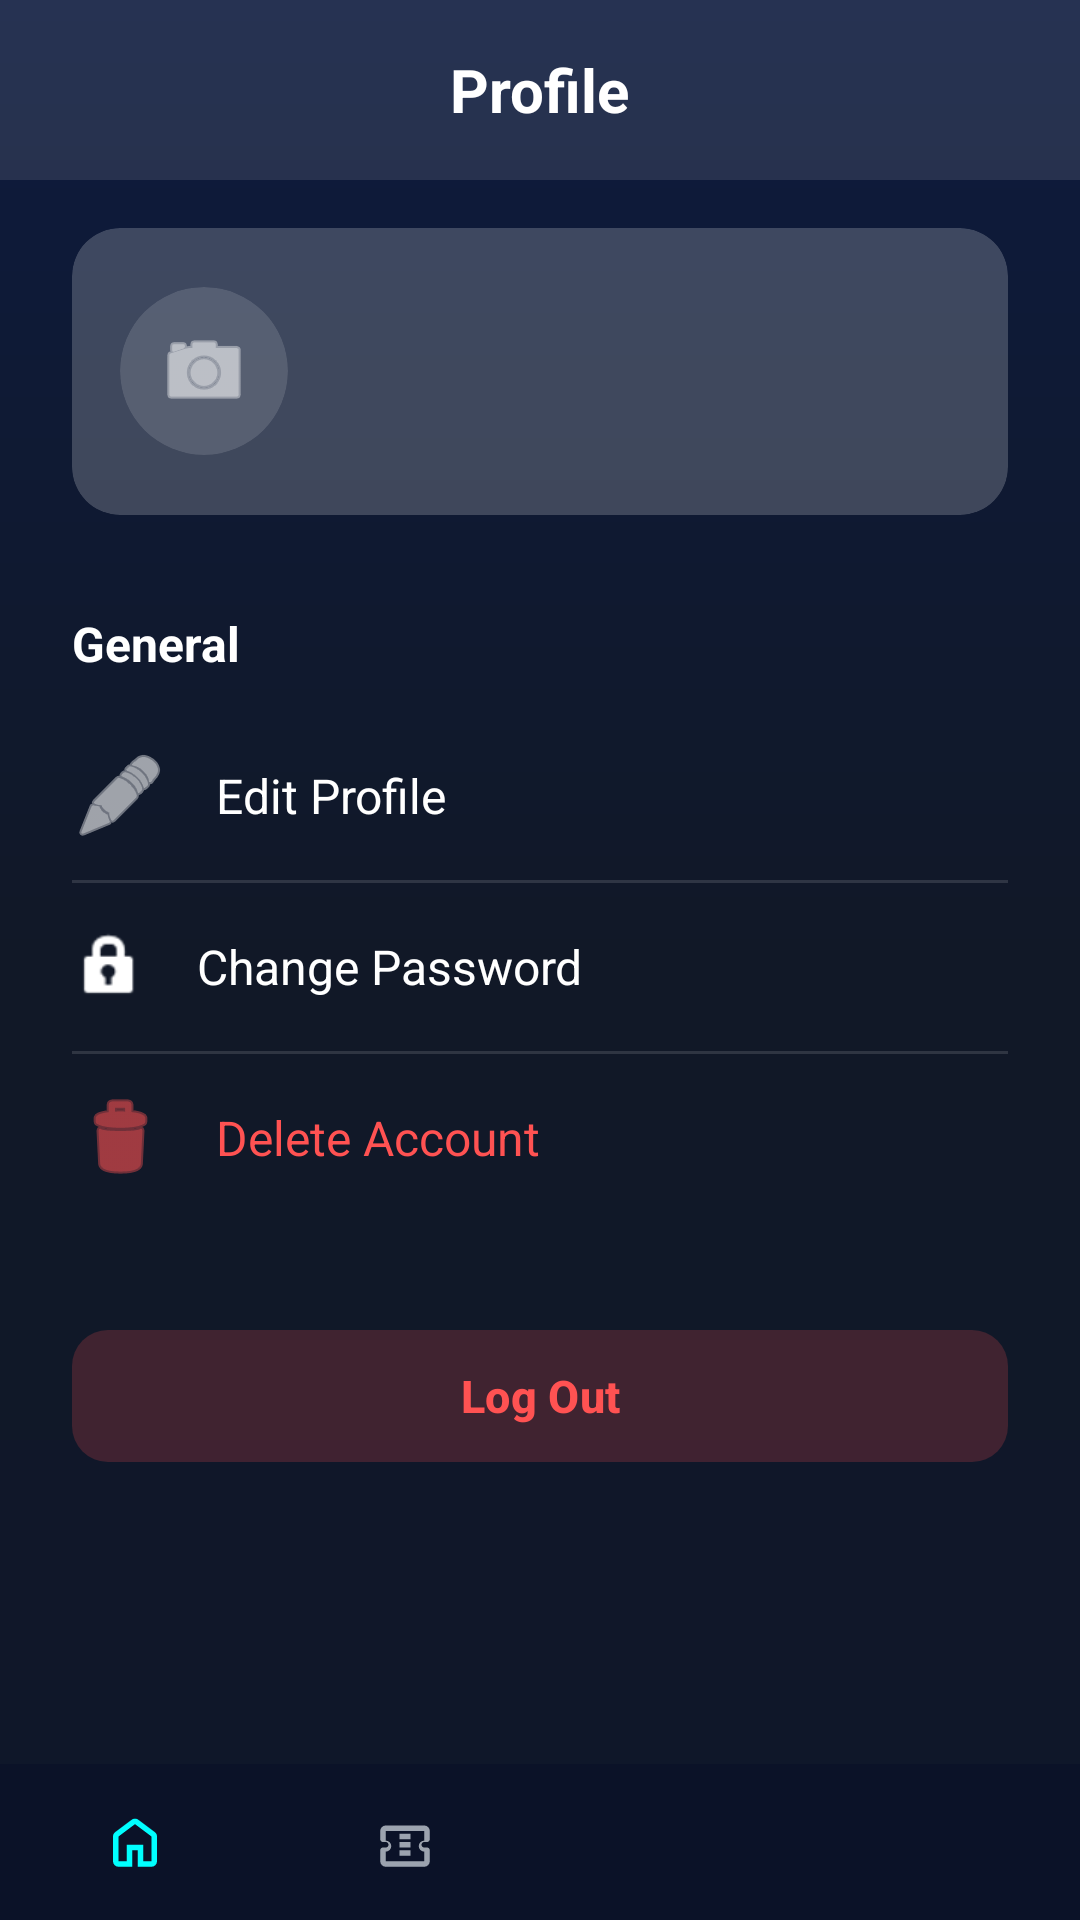

Icons on this 1080px x 1920px Android screen, each with its box as (x1, y1, x2, y2):
camera: (121, 340, 287, 455)
